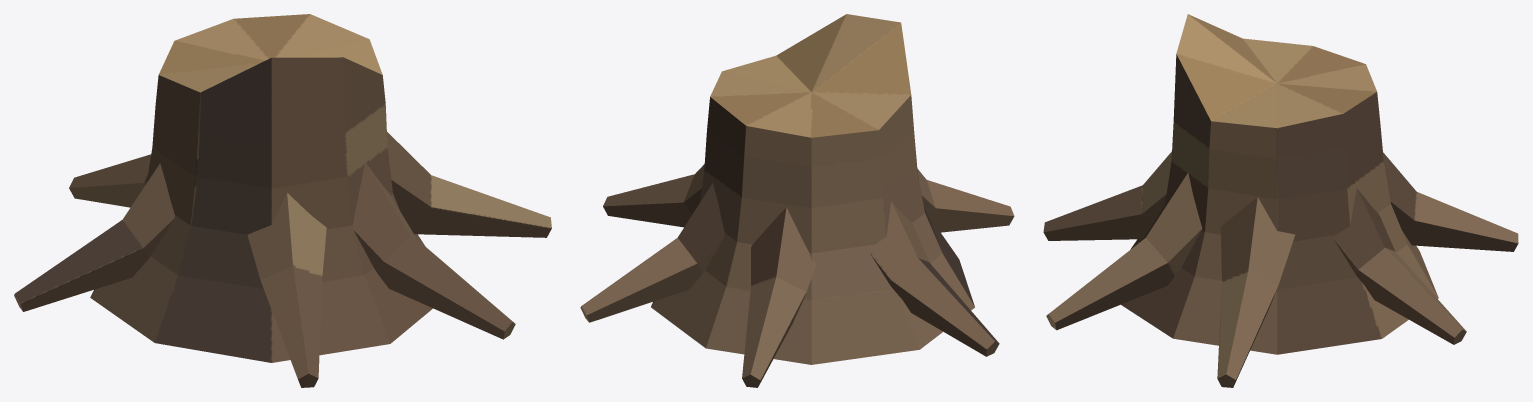
Rendered from SM_Stump.glb.
3 renders of one model, left to right at view 1: azimuth 30°, elevation 25°; view 2: azimuth 150°, elevation 25°; view 3: azimuth 270°, elevation 25°, orthographic. The views are drawn at different scales.
Parts seen in each view (by area): view 1: SM_Stump; view 2: SM_Stump; view 3: SM_Stump.
Part boxes in pixels (x1=…): SM_Stump: x1=14, y1=14, x2=551, y2=387; SM_Stump: x1=580, y1=14, x2=1014, y2=387; SM_Stump: x1=1043, y1=14, x2=1518, y2=387.
Bounding box in the file's own units: 1.52 × 0.8295 × 1.43.
Materials: 1 (1 with a texture image).
